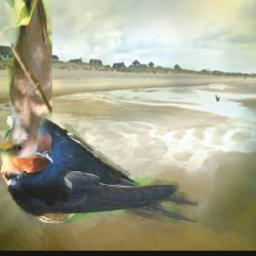Cuckoo: (0, 0, 53, 159)
Swallow: (0, 108, 199, 223)
